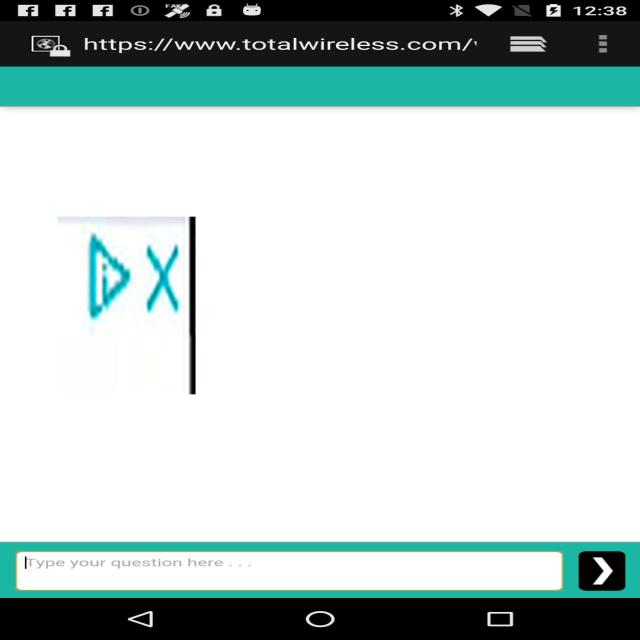sneaking: (58, 217, 196, 394)
